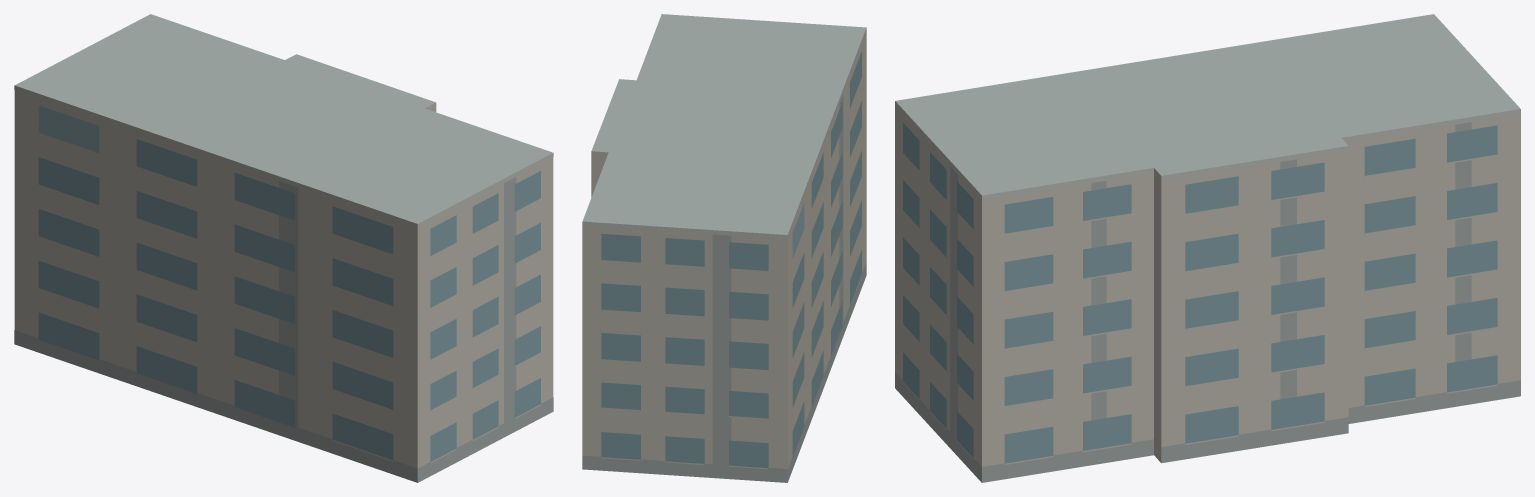
File: survey-upis-32943250.glb
3 renders of one model, left to right at view 1: azimuth 30°, elevation 25°; view 2: azimuth 150°, elevation 25°; view 3: azimuth 270°, elevation 25°, orthographic. The views are drawn at different scales.
Visible parts, largest first — view 1: survey-upis-32943250.tmp; view 2: survey-upis-32943250.tmp; view 3: survey-upis-32943250.tmp.
Boxes of the visible parts, left/top/right/bottom form: survey-upis-32943250.tmp: left=14, top=14, right=553, bottom=482; survey-upis-32943250.tmp: left=582, top=14, right=866, bottom=482; survey-upis-32943250.tmp: left=895, top=14, right=1520, bottom=482.
Bounding box in the file's own units: 18.5 × 13.65 × 26.95.
